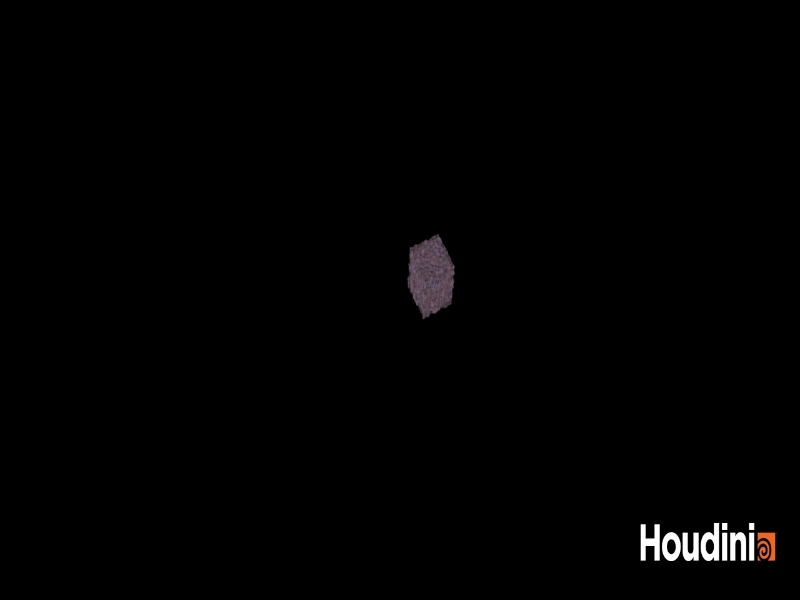waste: (404, 219, 466, 332)
